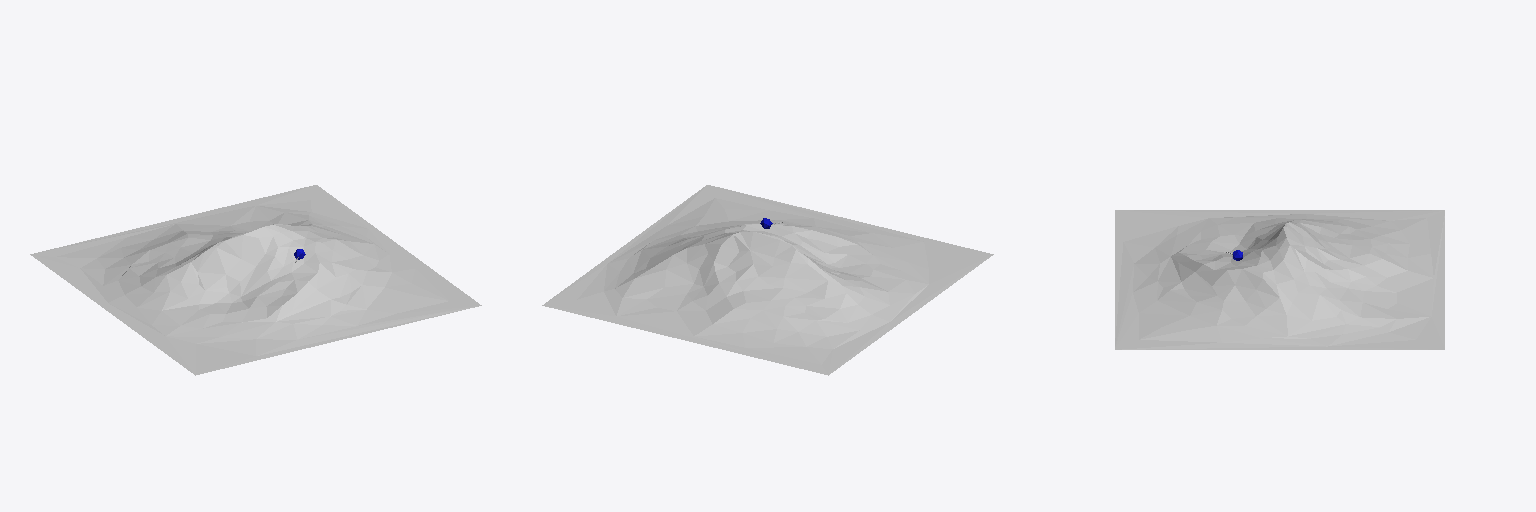
File: plat.obj
The picture shows the model from 3 angles: view 1: azimuth 30°, elevation 25°; view 2: azimuth 150°, elevation 25°; view 3: azimuth 270°, elevation 25°; orthographic projection.
Visible parts, largest first — view 1: Platonic.1; view 2: Platonic.1; view 3: Platonic.1.
Part boxes in pixels (left/top/right/bottom): Platonic.1: left=30, top=185, right=481, bottom=375; Platonic.1: left=542, top=185, right=993, bottom=375; Platonic.1: left=1115, top=210, right=1444, bottom=349.
Size of the model in its own units: 600 by 96.29 by 600.